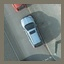car: (18, 14, 43, 48)
